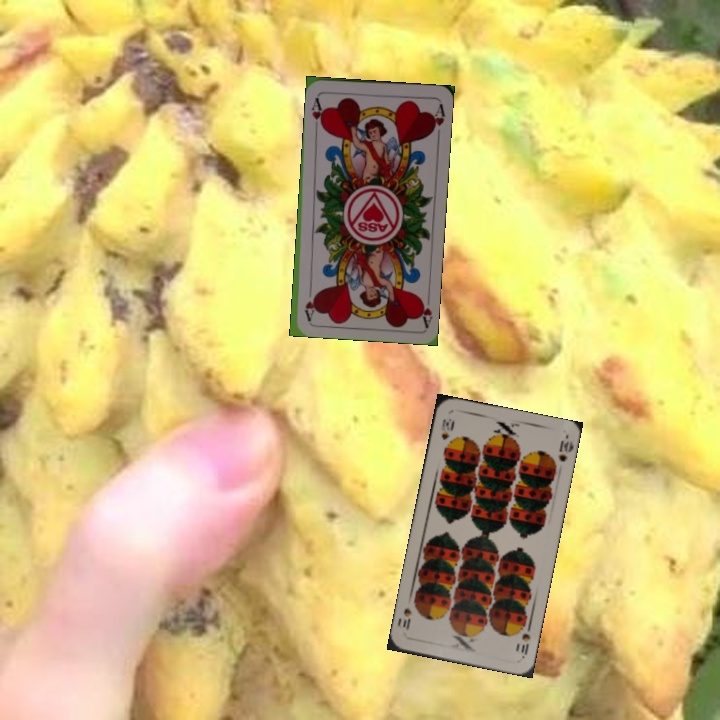HA: (415, 288, 435, 329), (307, 92, 327, 132)
S10: (517, 619, 534, 660), (437, 414, 455, 443)
